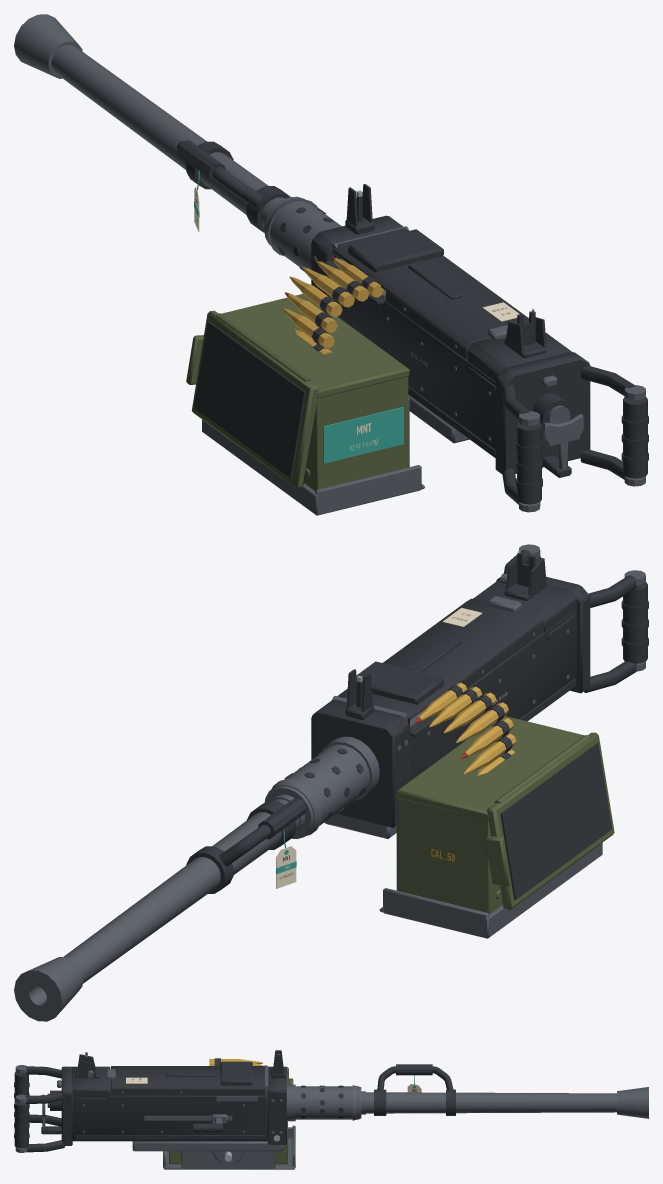
The picture shows the model from 3 angles, top to bottom: view 1: azimuth 30°, elevation 25°; view 2: azimuth 150°, elevation 25°; view 3: azimuth 270°, elevation 25°; orthographic projection. The views are drawn at different scales.
Parts seen in each view (by area): view 1: body, ammo_can, cover, belt, ammo_can_fine, trigger; view 2: body, ammo_can, cover, belt, body_fine; view 3: body, cover, ammo_can, charging_handle, body_fine, belt.
Boxes of the visible parts, <box> form: body: <box>14,14,648,515</box>; ammo_can: <box>186,294,409,491</box>; cover: <box>331,226,528,359</box>; belt: <box>282,256,385,354</box>; ammo_can_fine: <box>323,407,403,463</box>; trigger: <box>543,414,583,469</box>; body: <box>14,544,648,1021</box>; ammo_can: <box>396,716,614,914</box>; cover: <box>332,596,543,726</box>; belt: <box>414,682,516,775</box>; body_fine: <box>276,550,569,879</box>; body: <box>14,1050,648,1169</box>; cover: <box>106,1061,268,1095</box>; ammo_can: <box>169,1067,293,1164</box>; charging_handle: <box>193,1114,227,1132</box>; body_fine: <box>82,1054,416,1141</box>; belt: <box>209,1058,262,1065</box>.
Size of the model in its own units: 0.4118 by 0.358 by 1.62.
